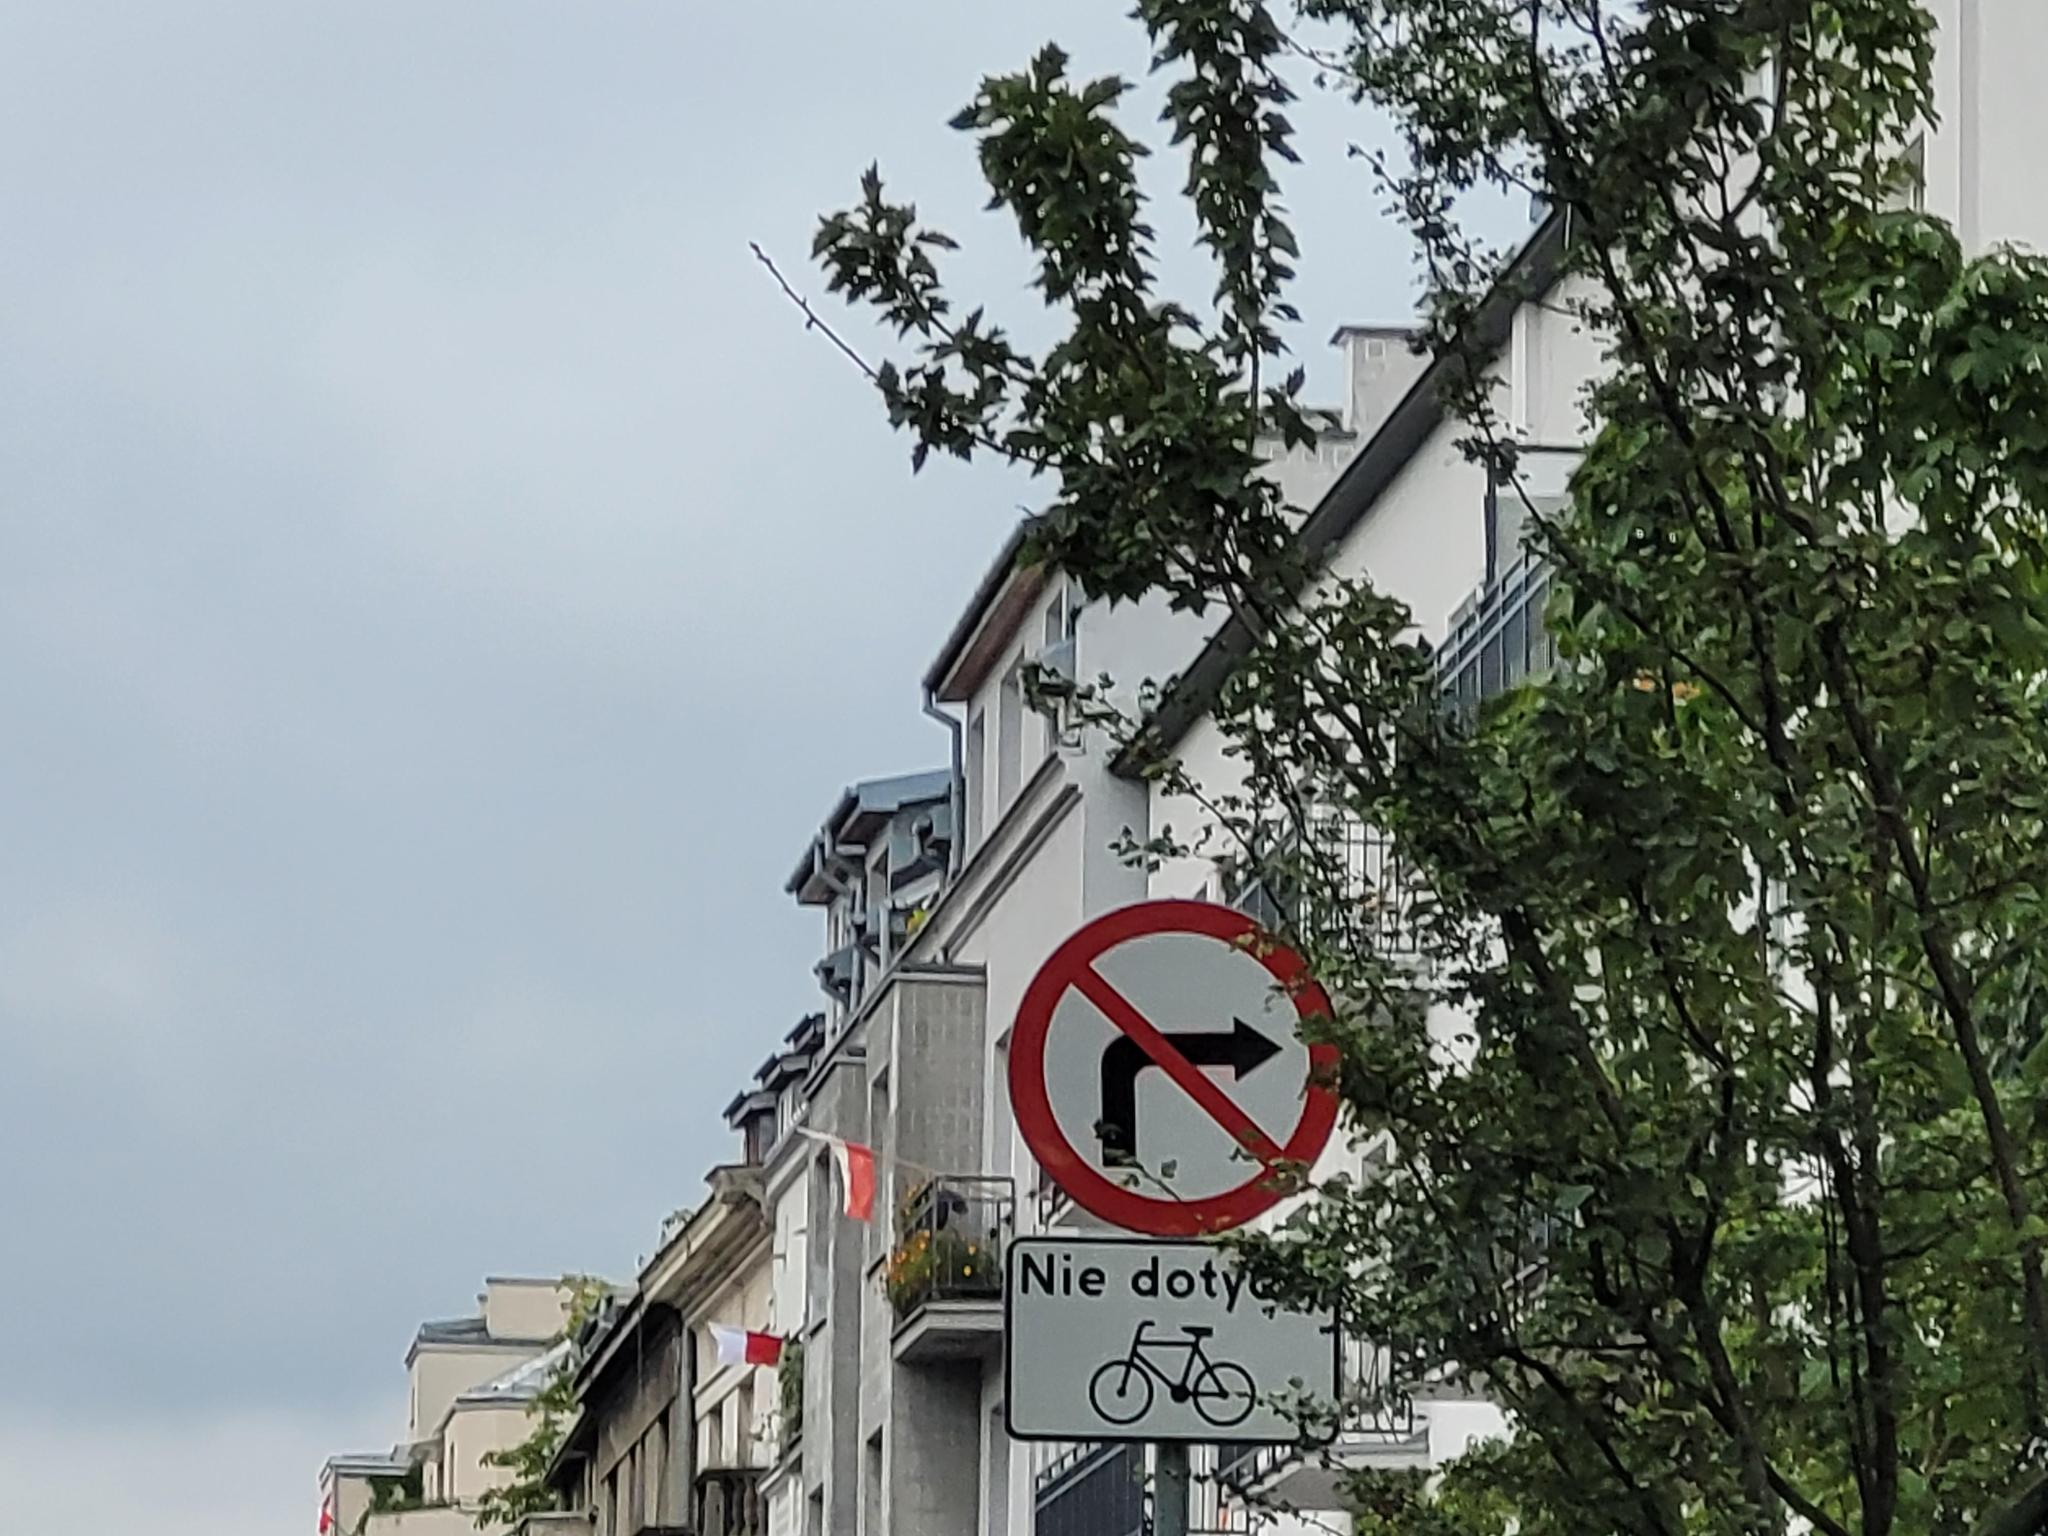other: (1011, 1239, 1334, 1439)
prohibitory: (1005, 895, 1342, 1239)
